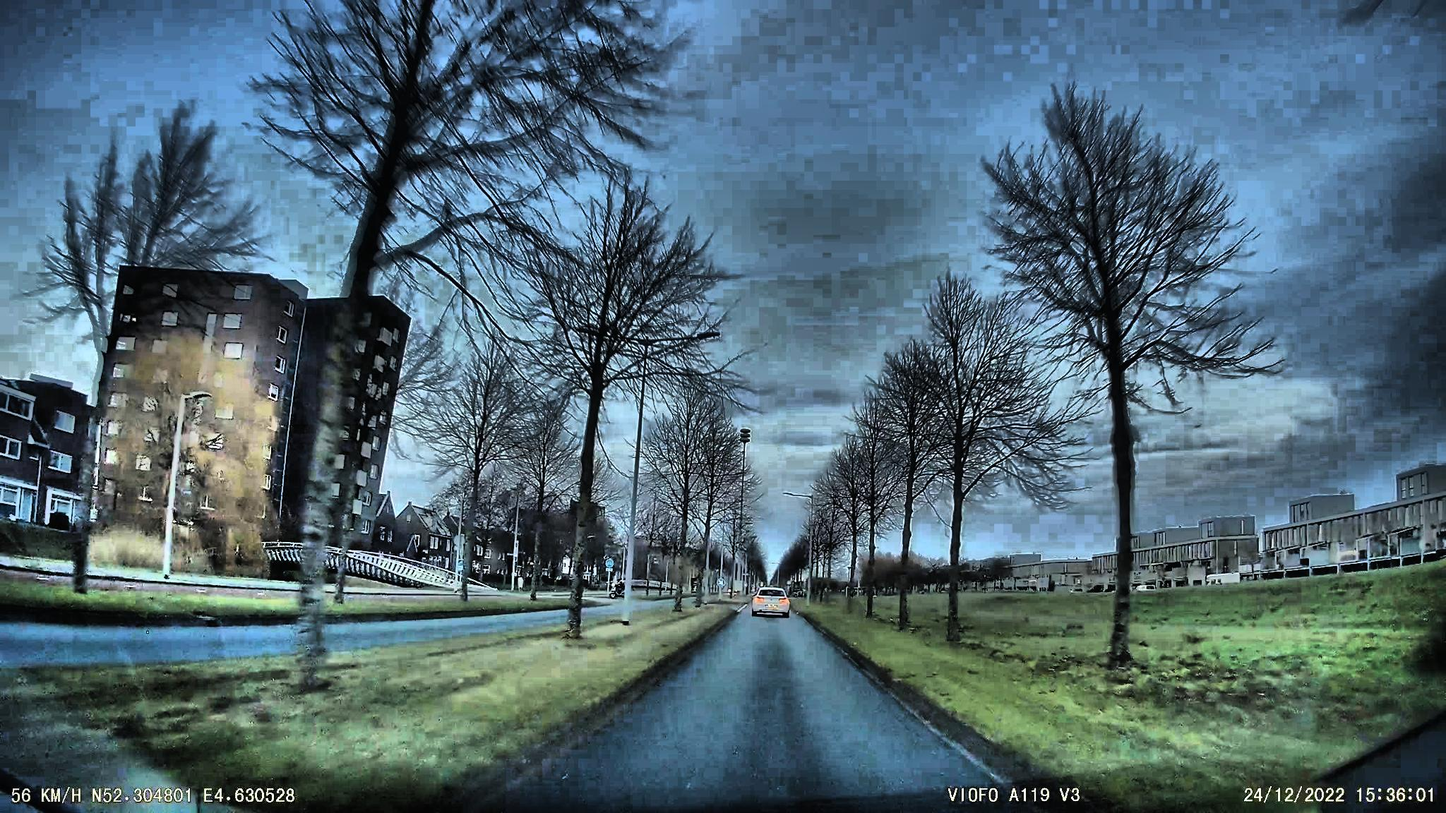Roads: (507, 614, 1059, 813)
